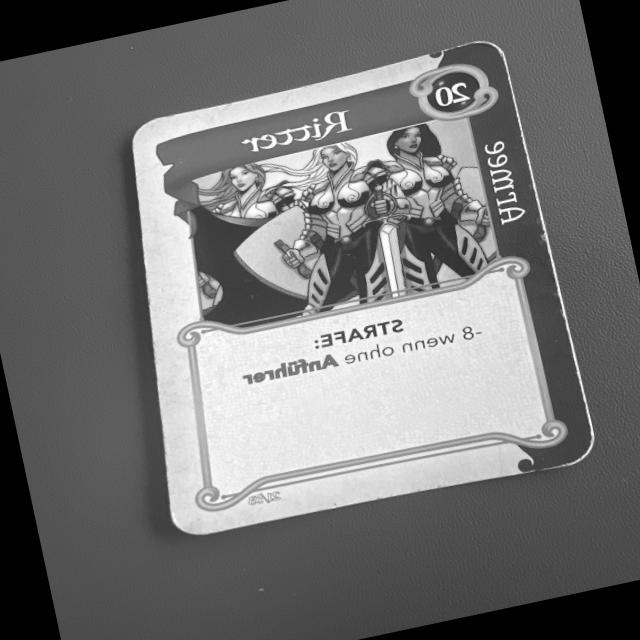Knights: (133, 38, 598, 554)
